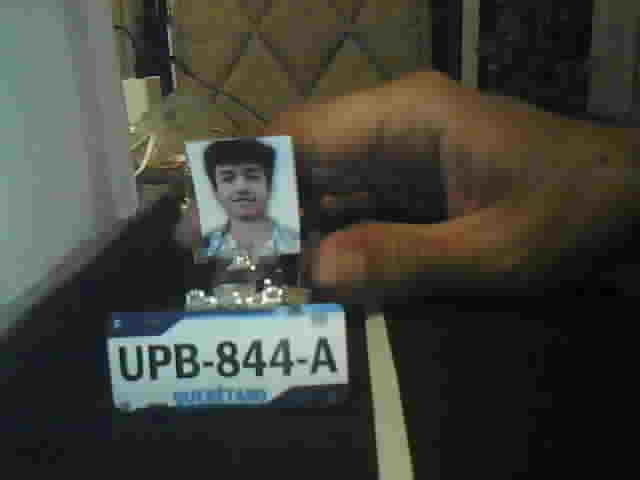PLACA: (102, 302, 350, 415)
ROSTRO: (202, 140, 294, 256)
